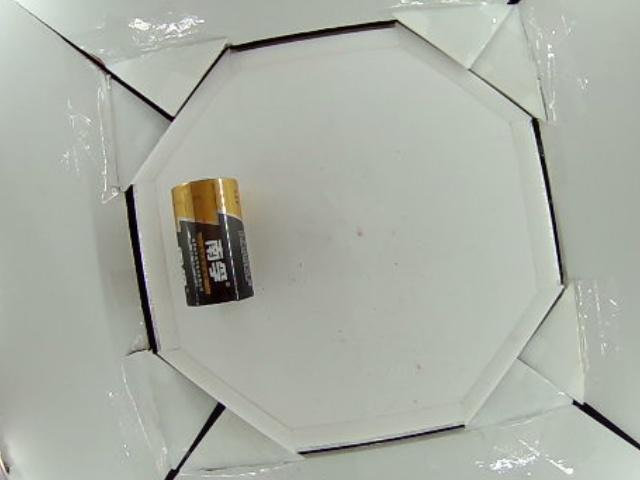Battery: (169, 176, 254, 307)
